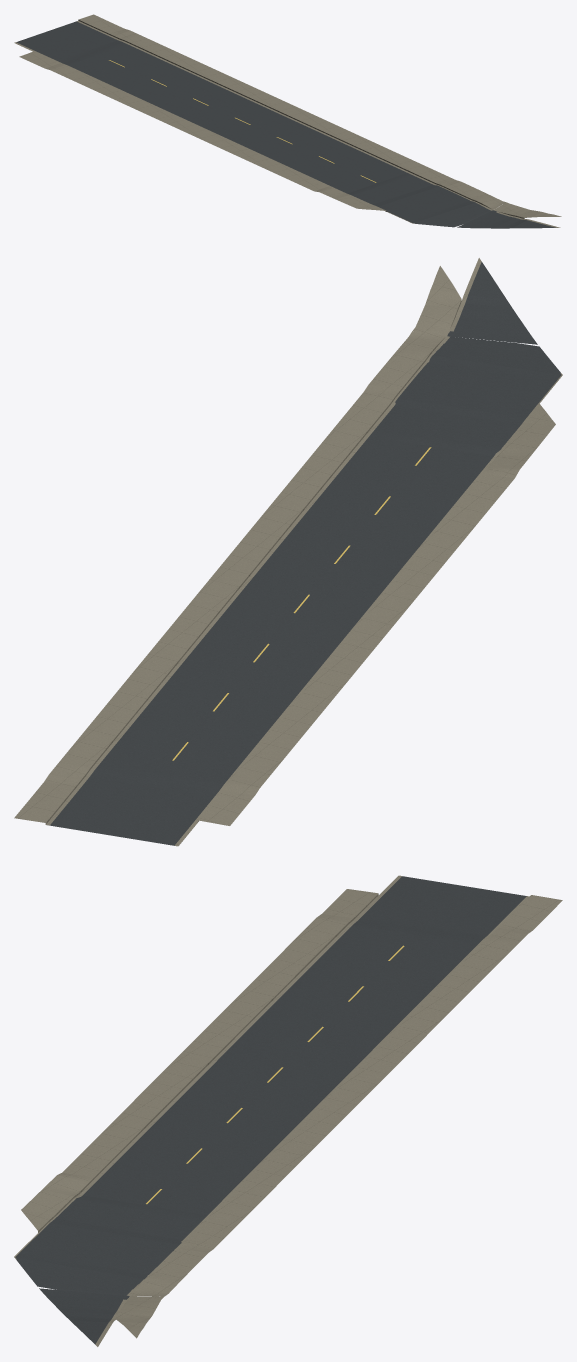
The picture shows the model from 3 angles, top to bottom: view 1: azimuth 30°, elevation 25°; view 2: azimuth 150°, elevation 25°; view 3: azimuth 330°, elevation 25°; orthographic projection. The views are drawn at different scales.
Visible parts, largest first — view 1: Carriageway, Clipped sidewalks with lowered crossing approaches, Concrete drainage margins, Raised curb faces; view 2: Carriageway, Clipped sidewalks with lowered crossing approaches, Concrete drainage margins, Raised curb faces; view 3: Carriageway, Clipped sidewalks with lowered crossing approaches, Concrete drainage margins, Raised curb faces.
Part boxes in pixels (bbox=[...]): Carriageway: bbox=[16, 21, 555, 228]; Clipped sidewalks with lowered crossing approaches: bbox=[19, 14, 561, 217]; Concrete drainage margins: bbox=[14, 20, 560, 227]; Raised curb faces: bbox=[78, 19, 524, 218]; Carriageway: bbox=[50, 262, 561, 846]; Clipped sidewalks with lowered crossing approaches: bbox=[14, 266, 555, 825]; Concrete drainage margins: bbox=[46, 258, 562, 846]; Raised curb faces: bbox=[45, 300, 461, 824]; Carriageway: bbox=[15, 876, 526, 1344]; Clipped sidewalks with lowered crossing approaches: bbox=[21, 889, 562, 1338]; Concrete drainage margins: bbox=[14, 875, 529, 1346]; Raised curb faces: bbox=[38, 894, 378, 1319].
Size of the model in its own units: 29.3 by 4.59 by 89.16.
